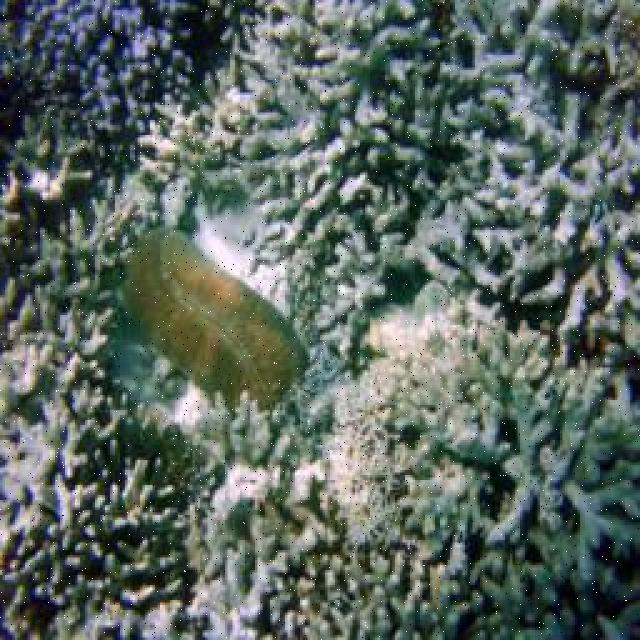reefs: (200, 1, 638, 360), (375, 287, 638, 581), (0, 328, 192, 638), (0, 77, 223, 338), (0, 0, 209, 174), (259, 544, 638, 637), (123, 223, 310, 410)
